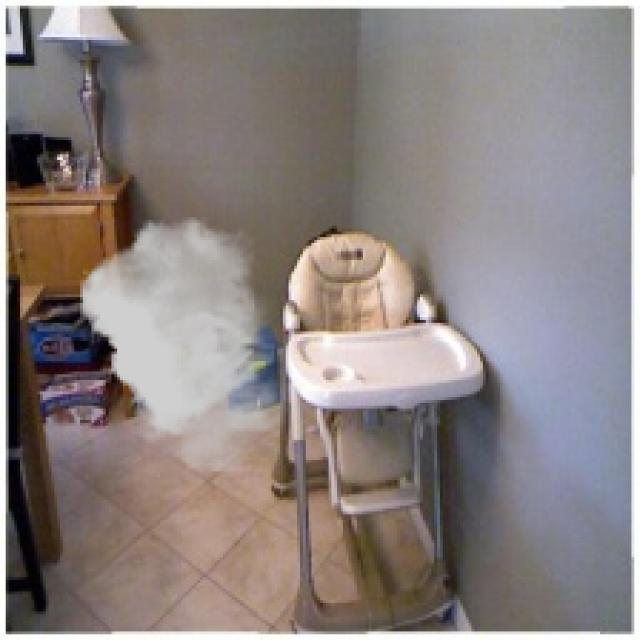smoke: (80, 217, 291, 472)
